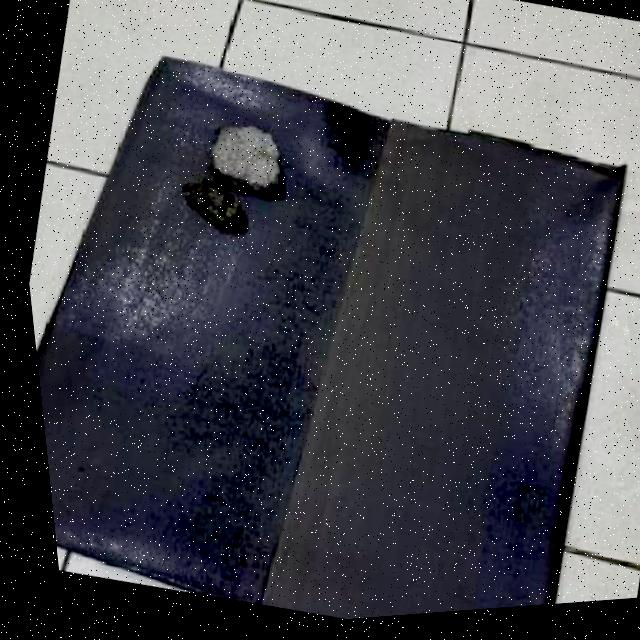Road Debris: (173, 178, 249, 236), (206, 124, 262, 182)
